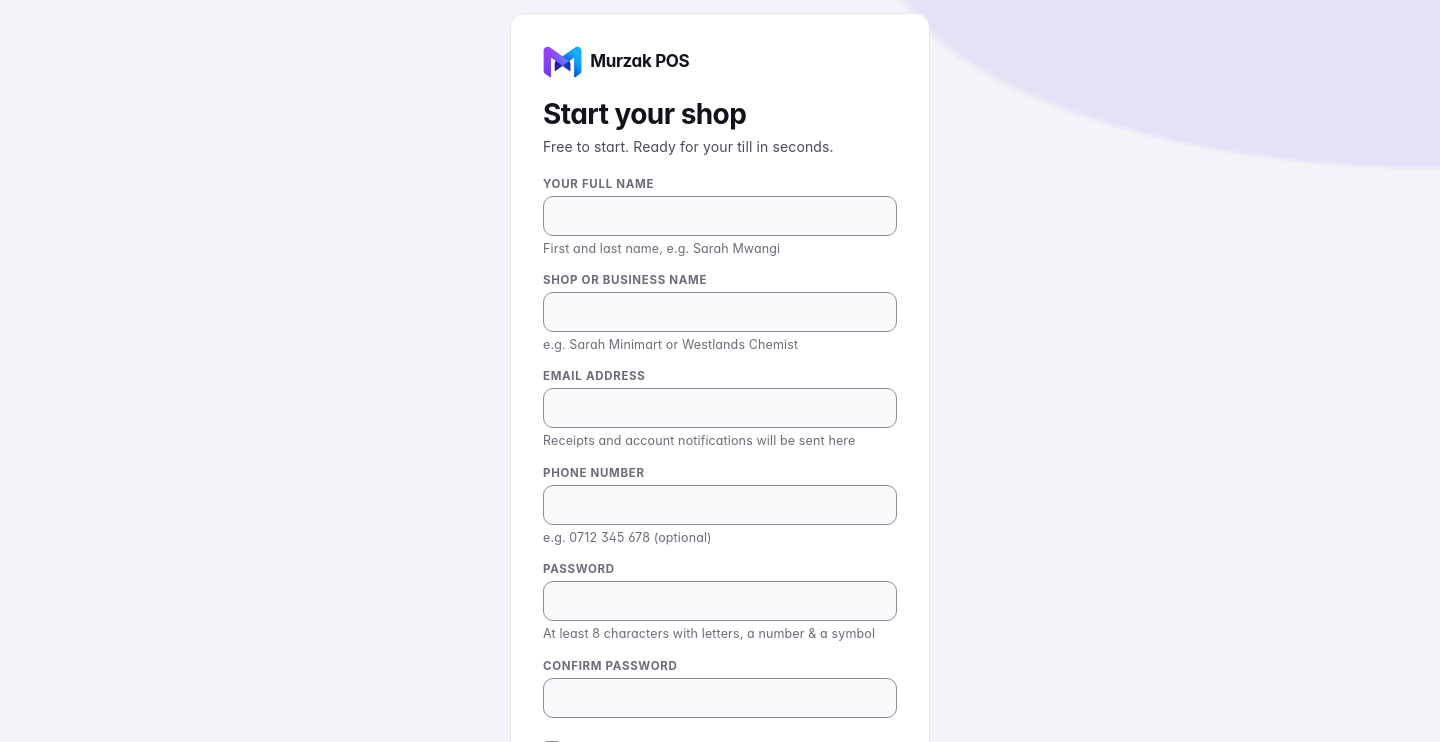
SignUpPage › validates password policy before sending
The width and height of the screenshot is (1440, 742).
In the field labelled "Your full name": (720, 216) 544,196 -> 896,234, type "Grace Hopper"
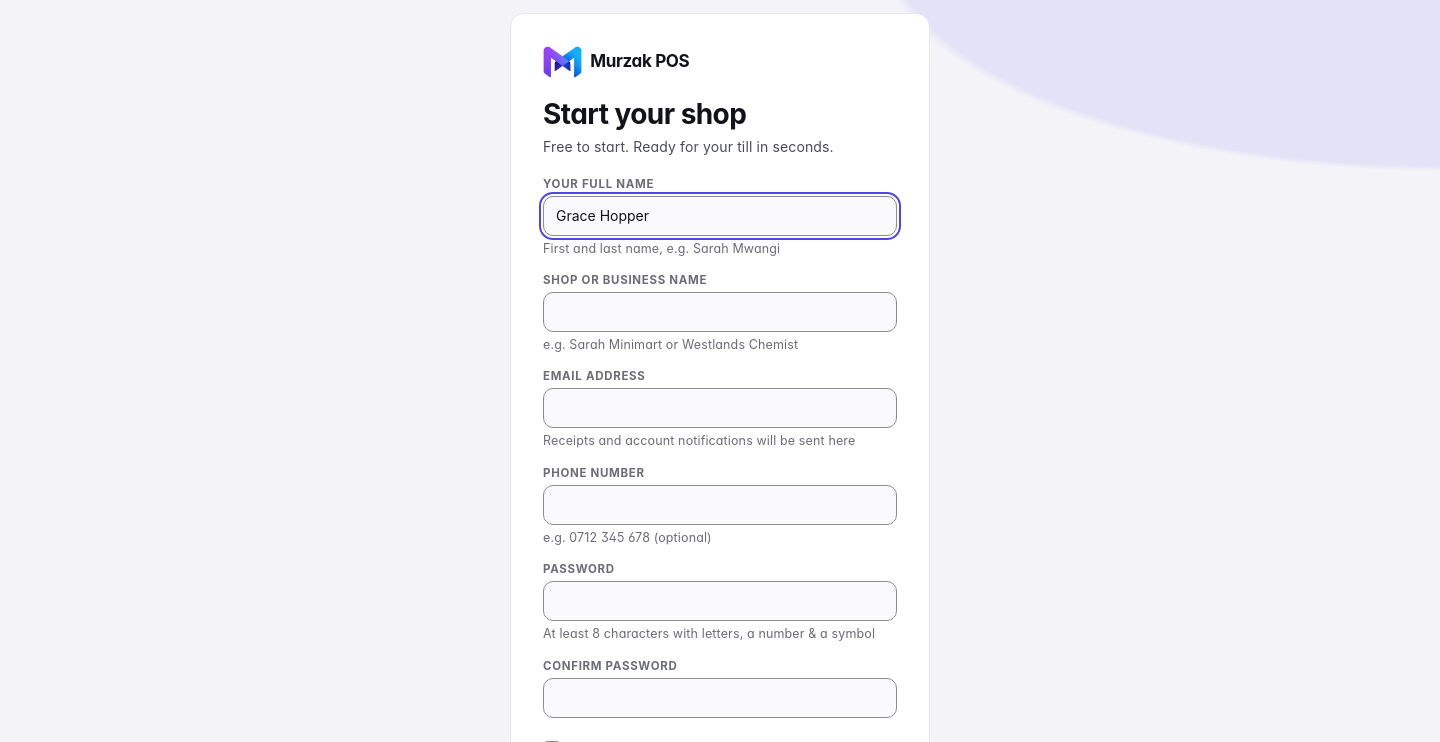
In the field labelled "Shop or business name": (720, 312) 544,293 -> 896,331, type "Grace Tech"
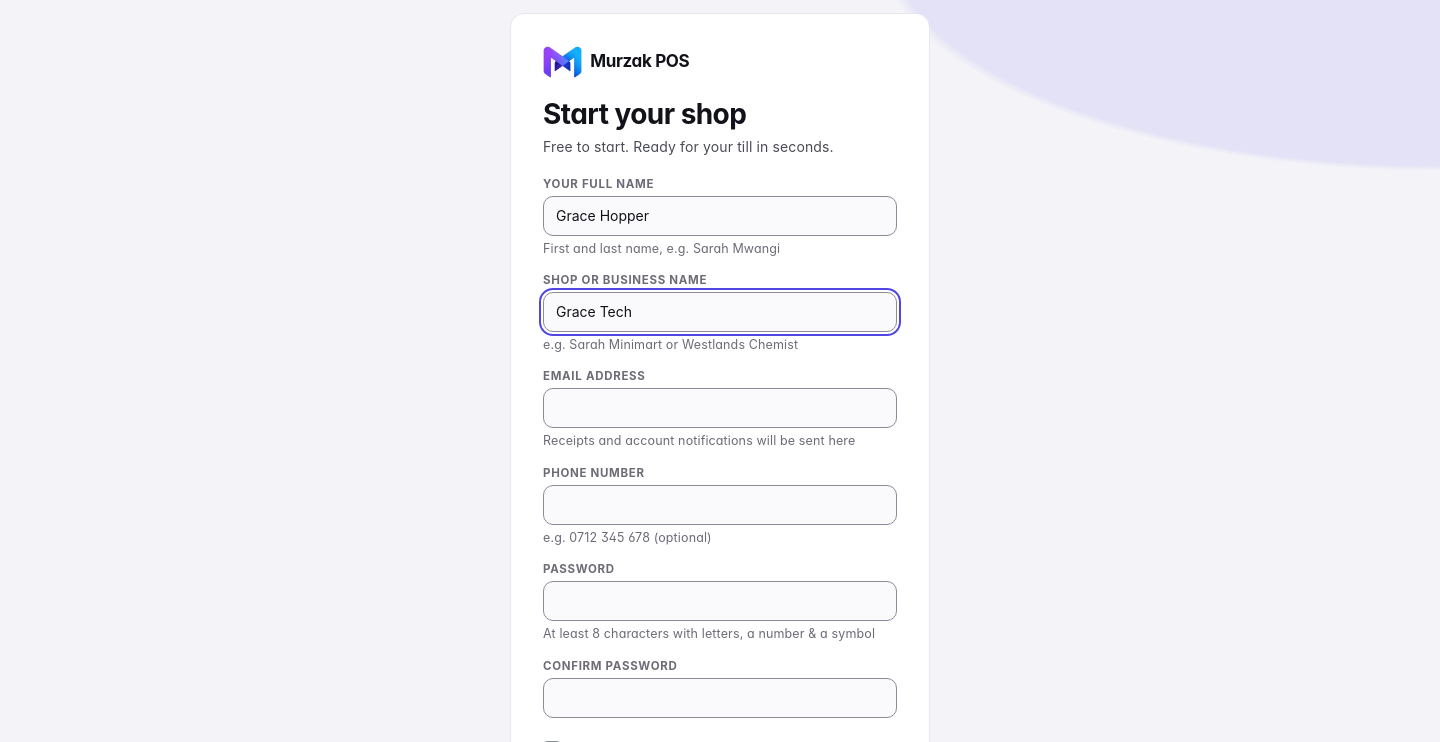
In the field labelled "Email address": (720, 408) 544,389 -> 896,427, type "grace@example.com"
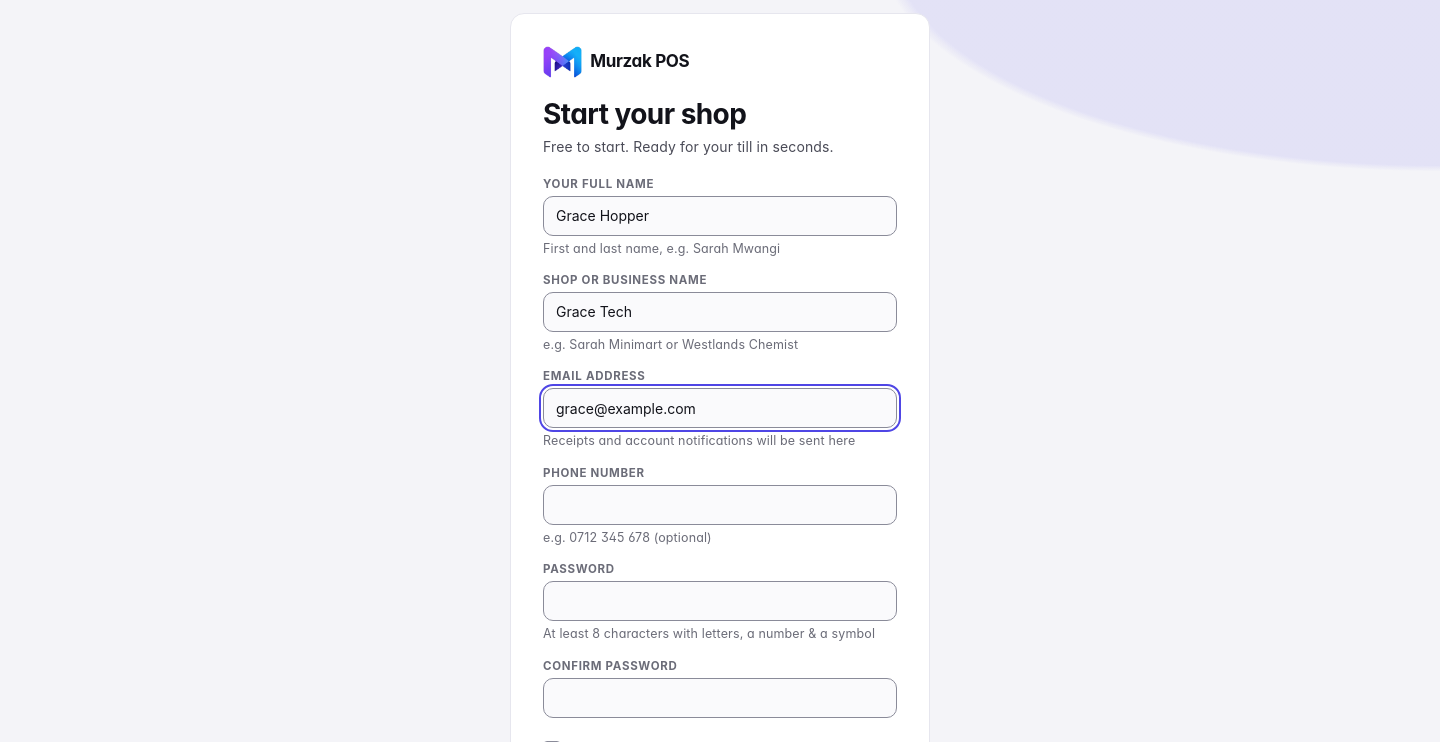
In the password field labelled "Password": (720, 601) 544,582 -> 896,620, type "weakpass"
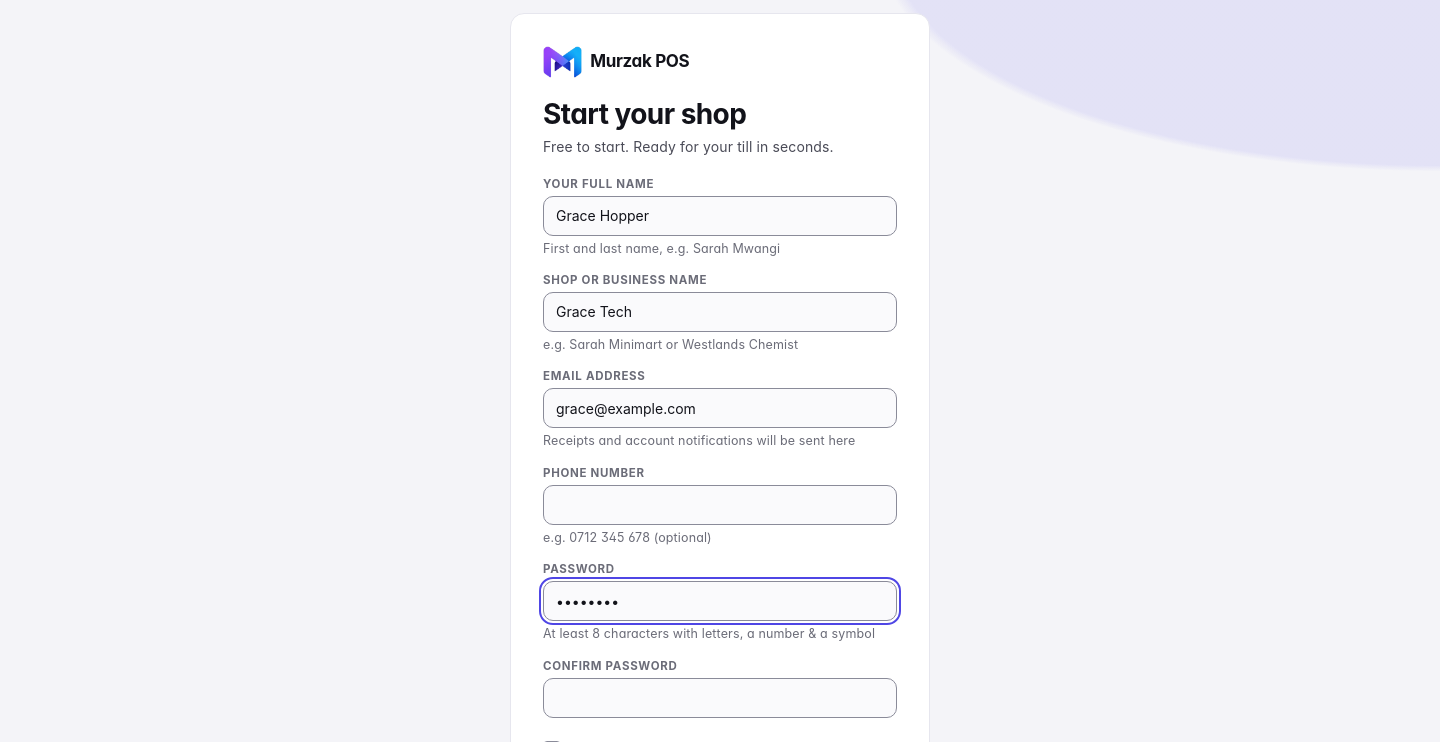
In the password field labelled "Confirm password": (720, 698) 544,679 -> 896,717, type "weakpass"
(page scrolled)
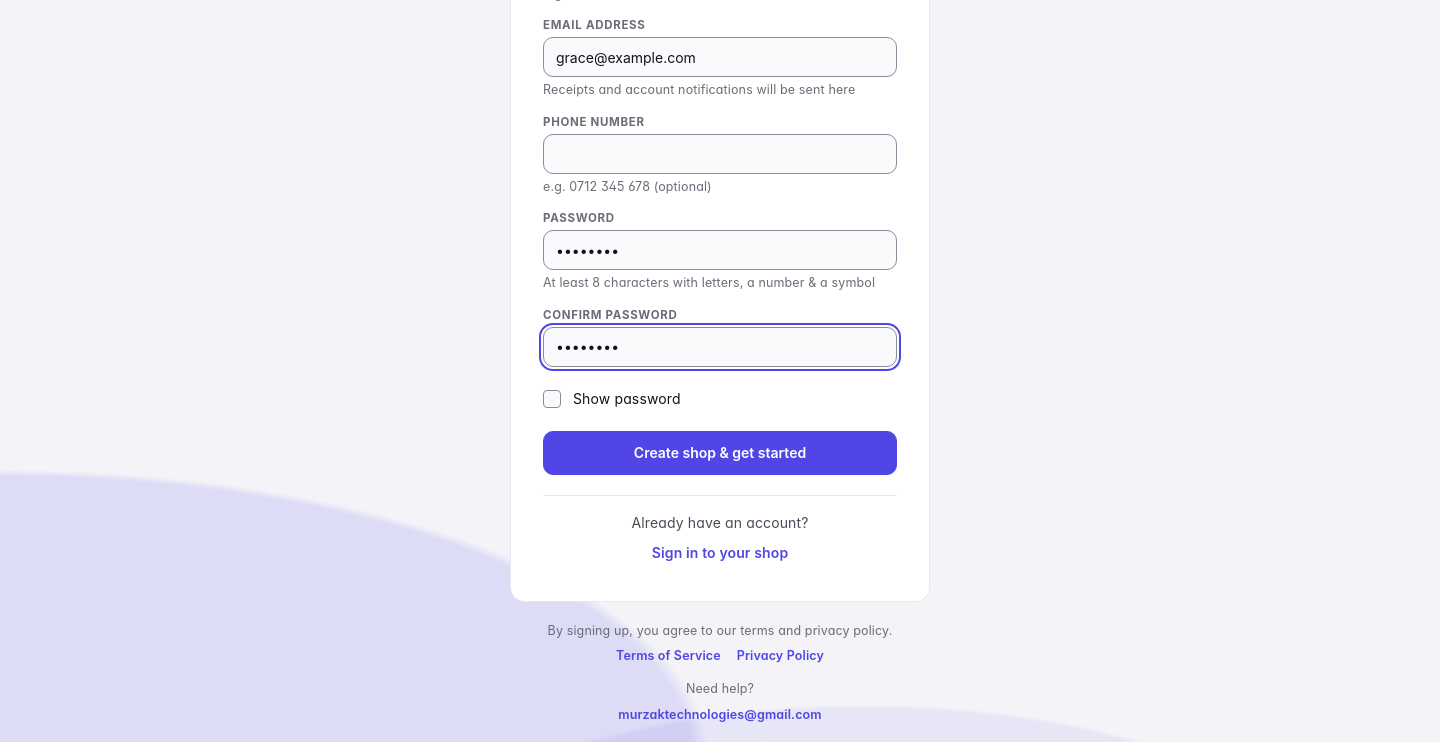
Click the button "Create shop & get started": (720, 453) 543,431 -> 897,475
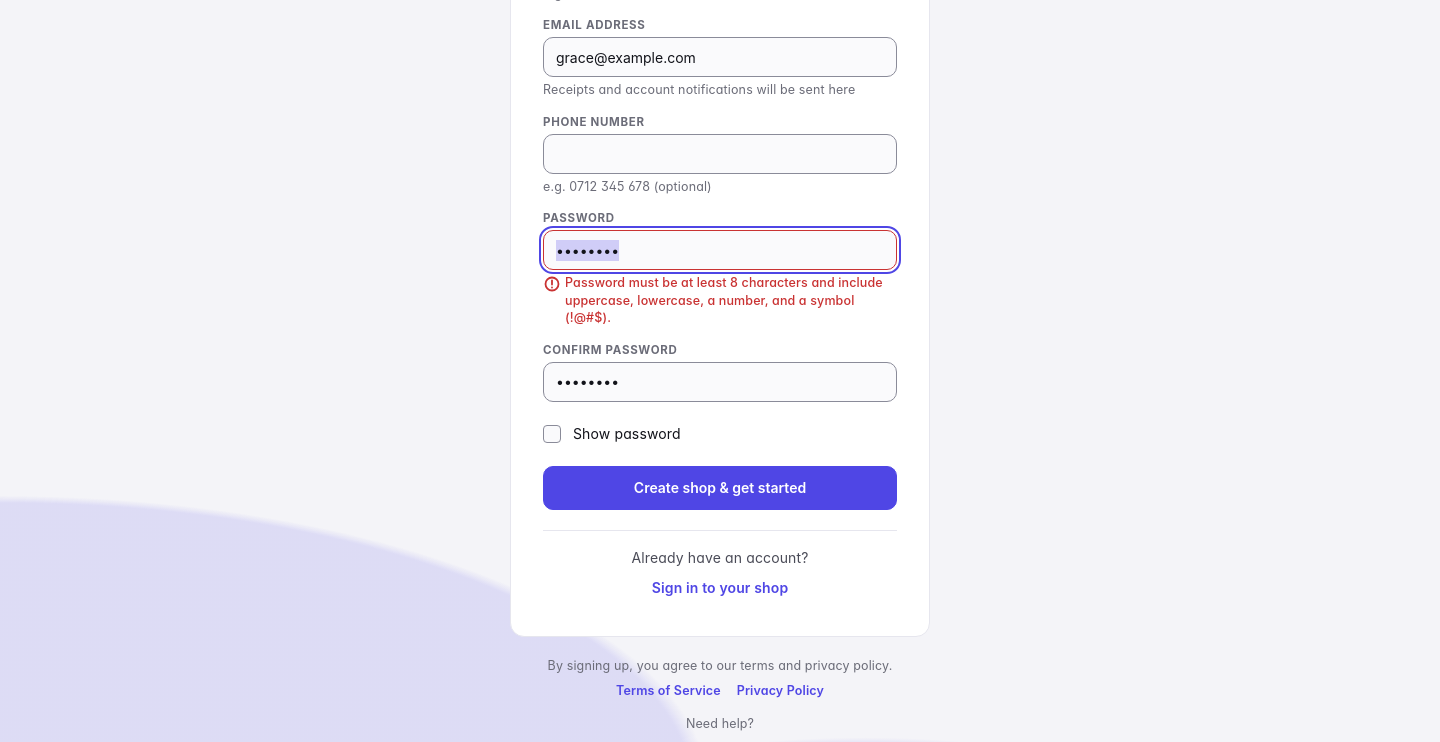
Expected: the text "Password must be at least 8 characters and include uppercase, lowercase, a number, and a symbol (!@#$)." is shown, 565,275 -> 883,325
